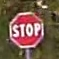stop: (8, 10, 44, 48)
